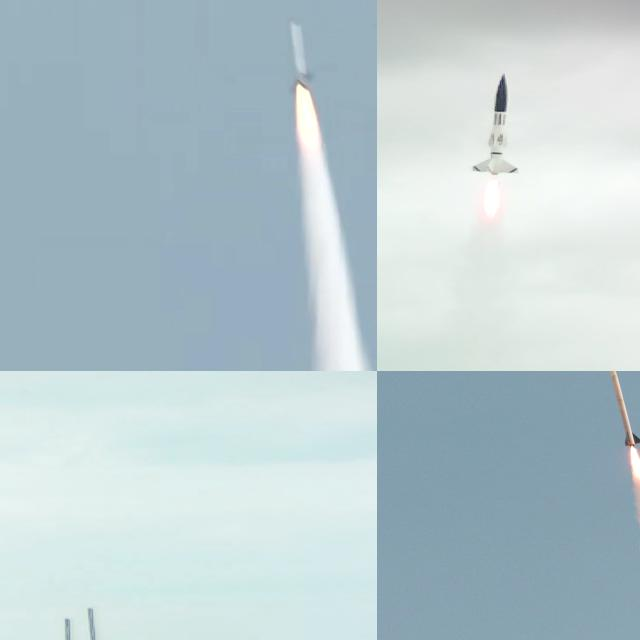Rocket: (470, 72, 520, 176), (608, 371, 640, 447), (288, 22, 314, 89)
